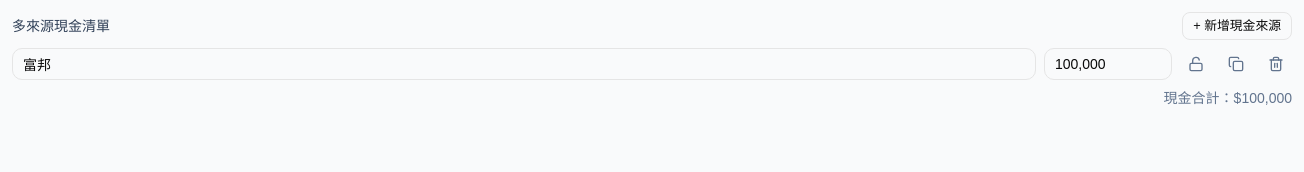
Scenario: CashSourceList › 複製現金來源 › 複製後焦點移到新列的金額欄，現金合計不變
The image size is (1304, 172).
Click the button named "複製 富邦".
click(1236, 64)  # box [1220,48,1252,80]
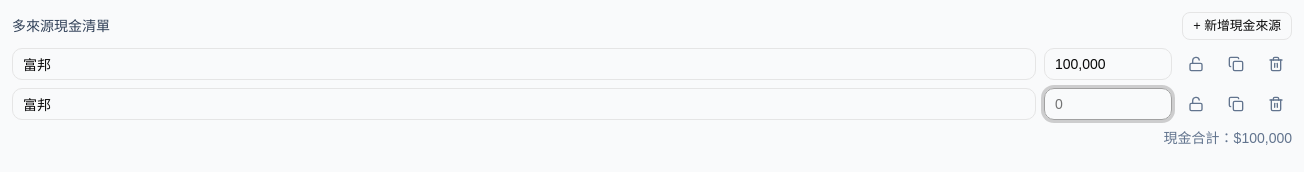
Check: the text "現金合計：$100,000" is shown, box [1164,130,1292,146]
Check: the number of fields named "金額" is 2, box [1044,48,1172,80]; [1044,88,1172,120]
